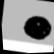correct: (18, 10, 54, 44)
